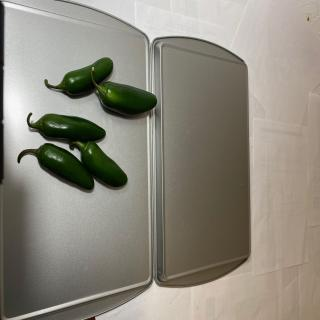Chilli: (17, 142, 94, 190), (26, 112, 106, 142)
Tomato: (90, 67, 157, 116), (69, 140, 128, 188), (44, 57, 114, 96)
